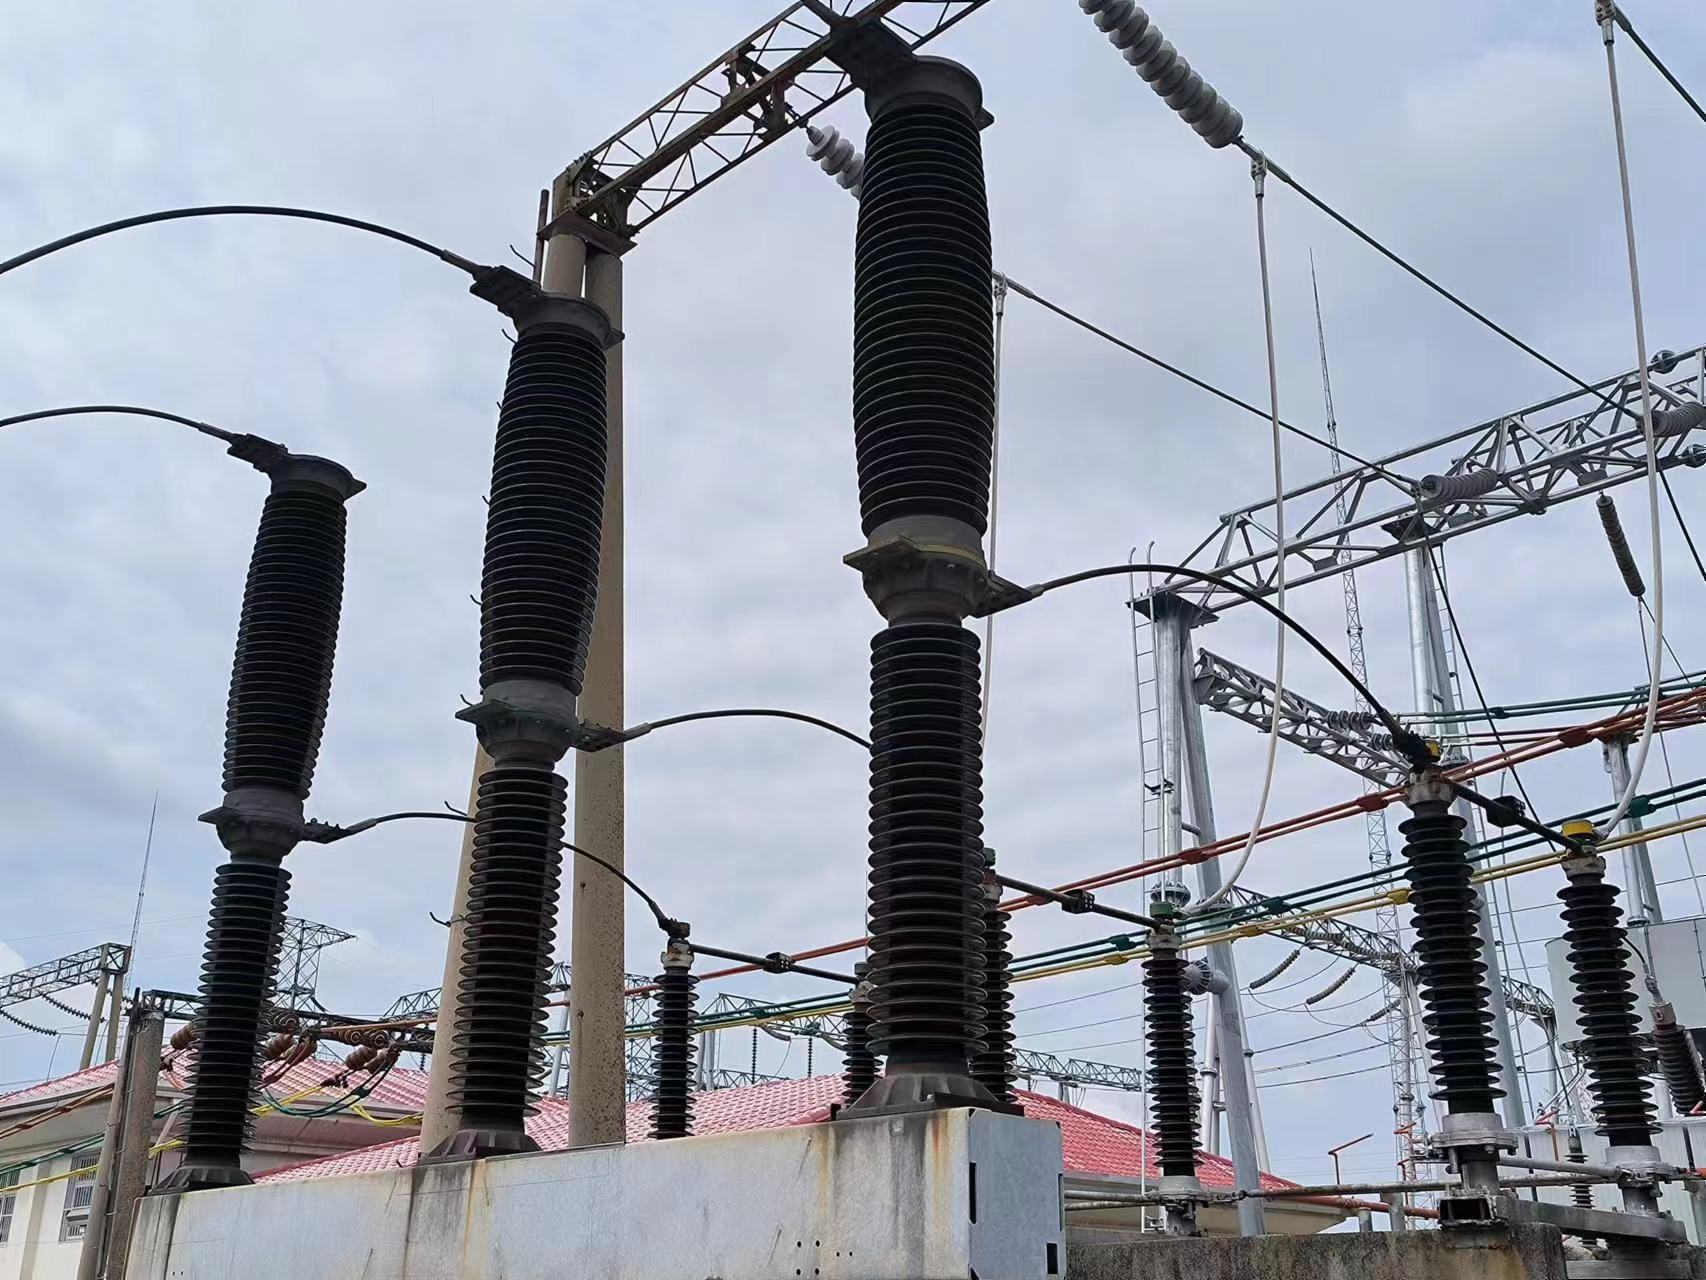Circuit-breaker: (816, 9, 1041, 1113), (437, 264, 625, 1147), (168, 414, 366, 1181)
Disconnecting link: (1360, 725, 1695, 1195)
